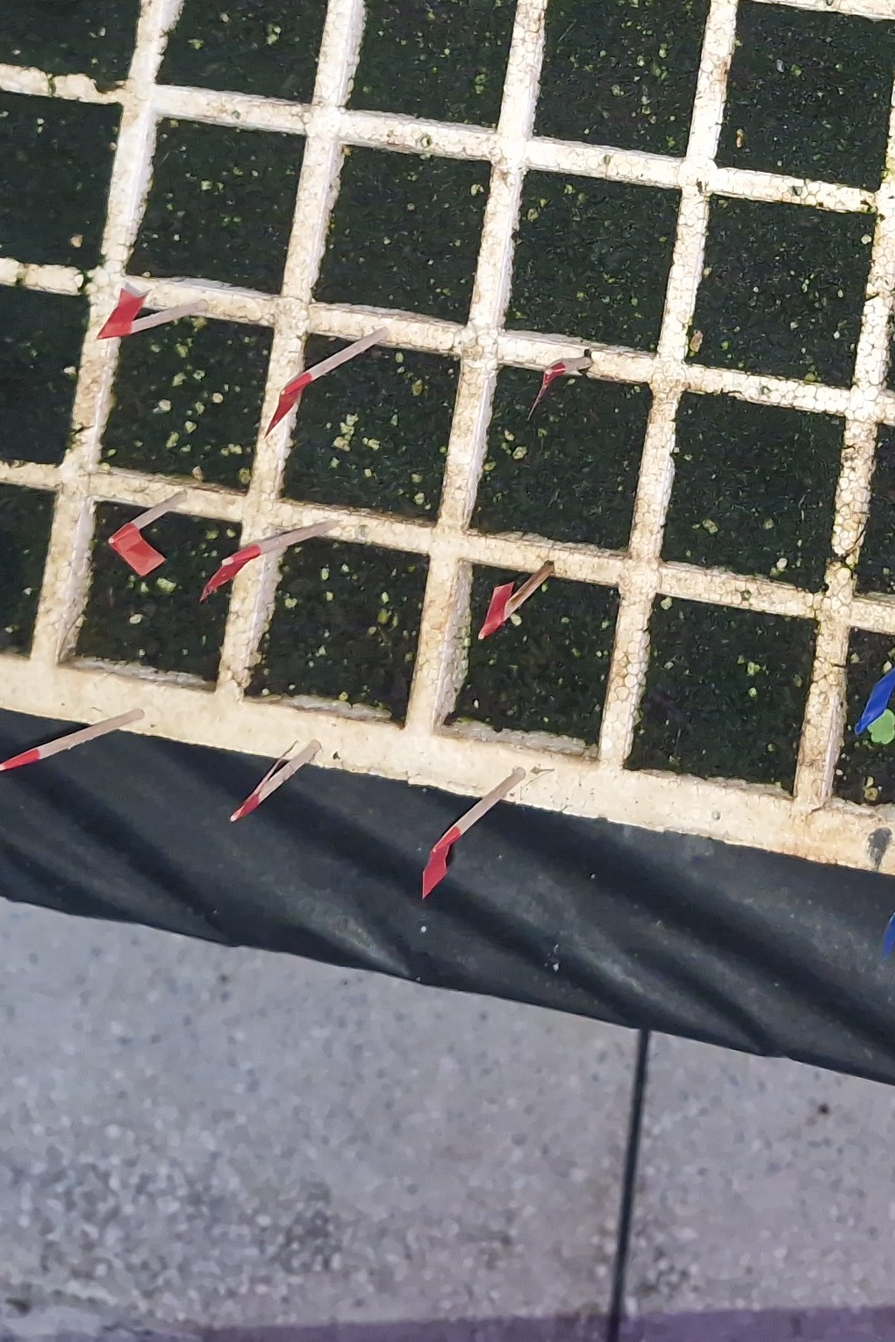Folha: (867, 709, 895, 745)
Germinacao: (867, 709, 895, 749)
